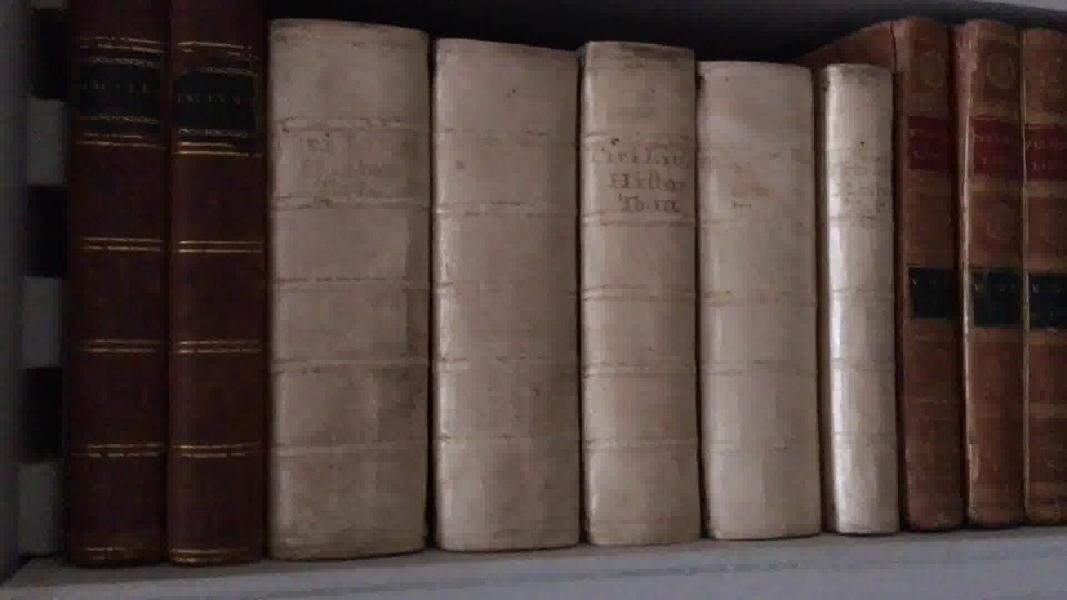Kk4-1_2: (76, 3, 269, 569)
Kk4-3_7: (269, 1, 904, 556)
Kk4-8_13: (898, 28, 1067, 517)
